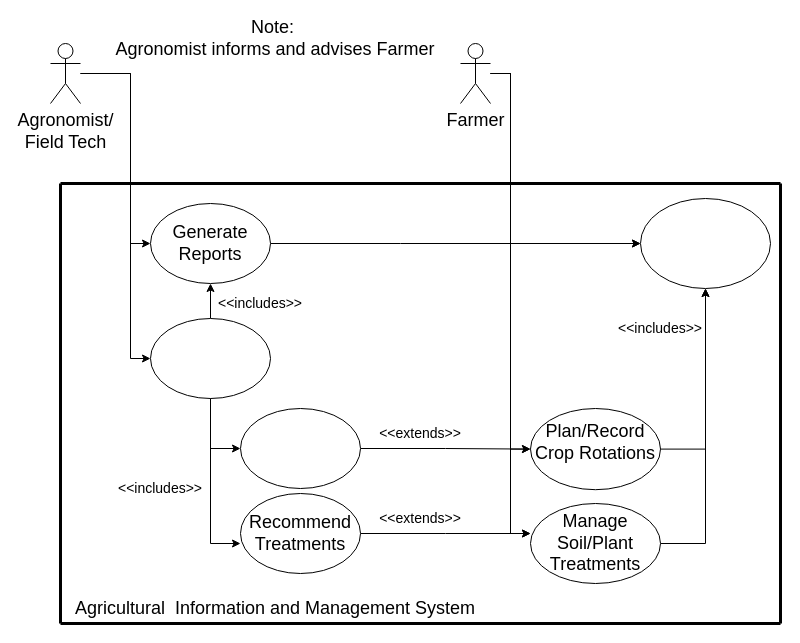
Image size: 800x643. Some labels were removed from this diagram. Here are the shapes that lost their labels. From the top down, the centre of each, then its label:
At point (705, 243): "Manage farm/fields".
At point (210, 358): "Soil Analysis".
At point (300, 448): "Recommend Crops".
